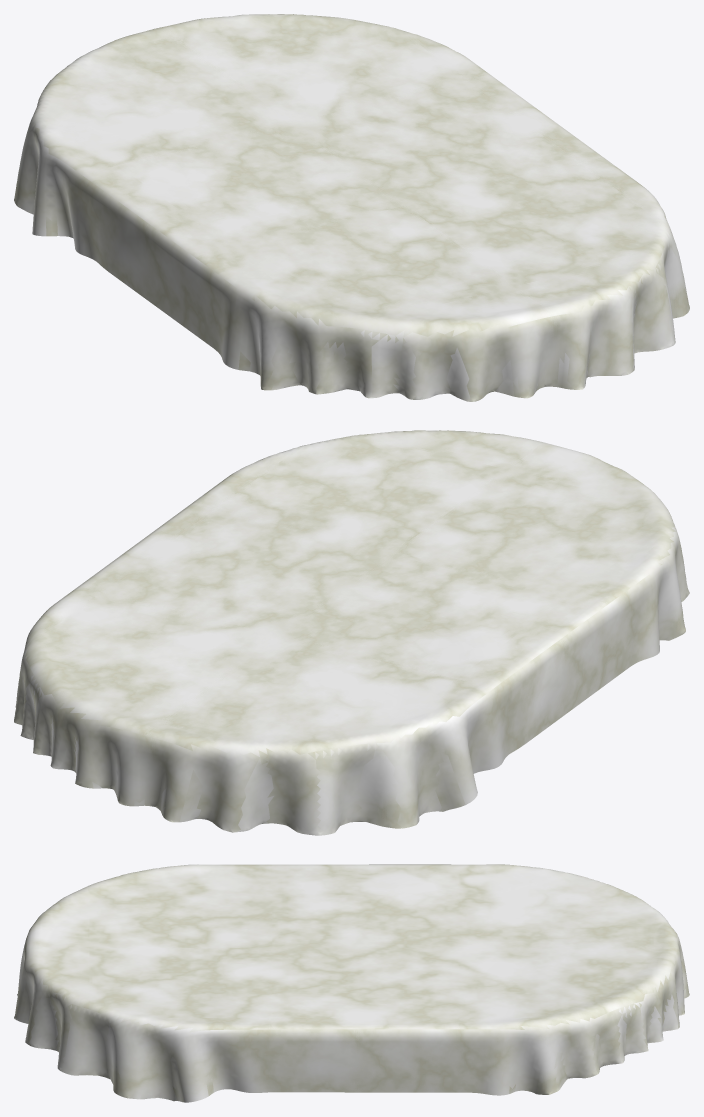
The model's file is mantel.FBX.
The picture shows the model from 3 angles, top to bottom: view 1: azimuth 30°, elevation 25°; view 2: azimuth 150°, elevation 25°; view 3: azimuth 270°, elevation 25°; orthographic projection. The views are drawn at different scales.
Parts seen in each view (by area): view 1: Plastic Co; view 2: Plastic Co; view 3: Plastic Co.
Boxes of the visible parts, x1,y1,x2,y2 form: Plastic Co: (14, 14, 689, 401); Plastic Co: (14, 430, 689, 835); Plastic Co: (14, 864, 689, 1102).
Size of the model in its own units: 9.75 by 2.02 by 15.65.
1 material, 1 textured.
